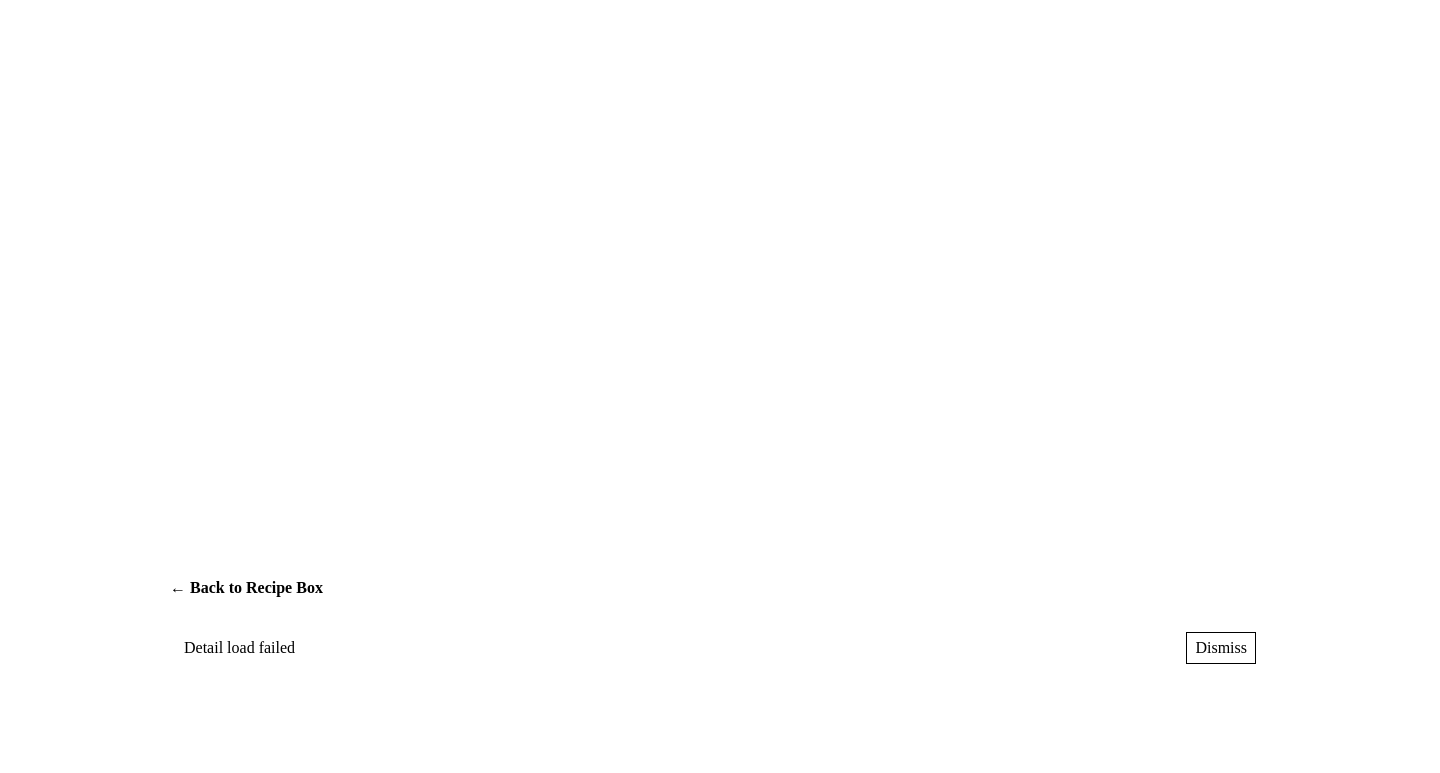
KinloomUiPlugin seams, ArchivalPrimitives, and Family Recipes UI (#47) › covers pagination, empty-ingredient detail, living ancestor redaction, slot edge states, and missing provider error
Earlier steps of the test are not shown.
Later steps or results of the test are not shown.
(page scrolled)
Expected: the text "Detail load failed" is shown, [184,637,295,660]
Click the button with aria-label "Dismiss notice". click: (1221, 648)
box: [1186,632,1256,664]
(page scrolled)
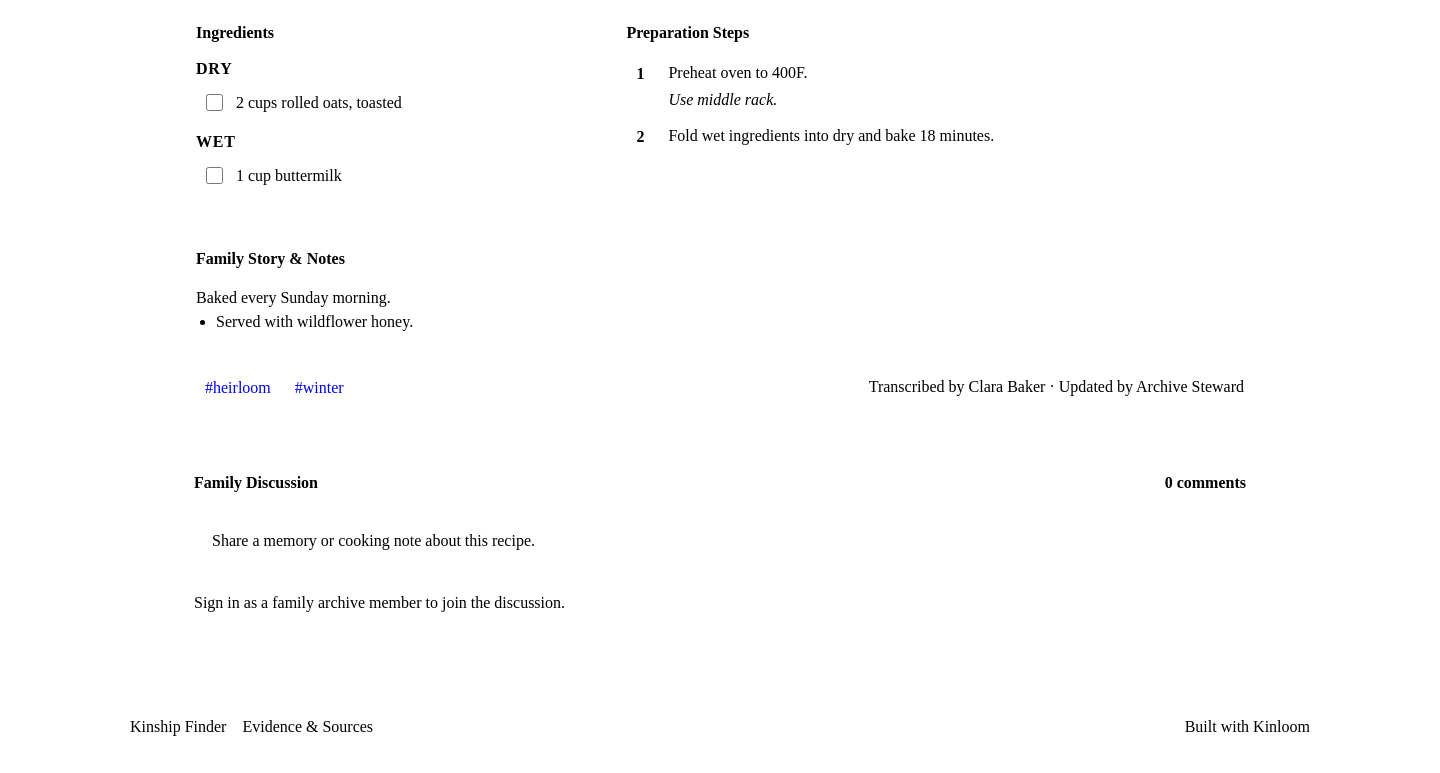
Expected: the text "Detail load failed" is gone
